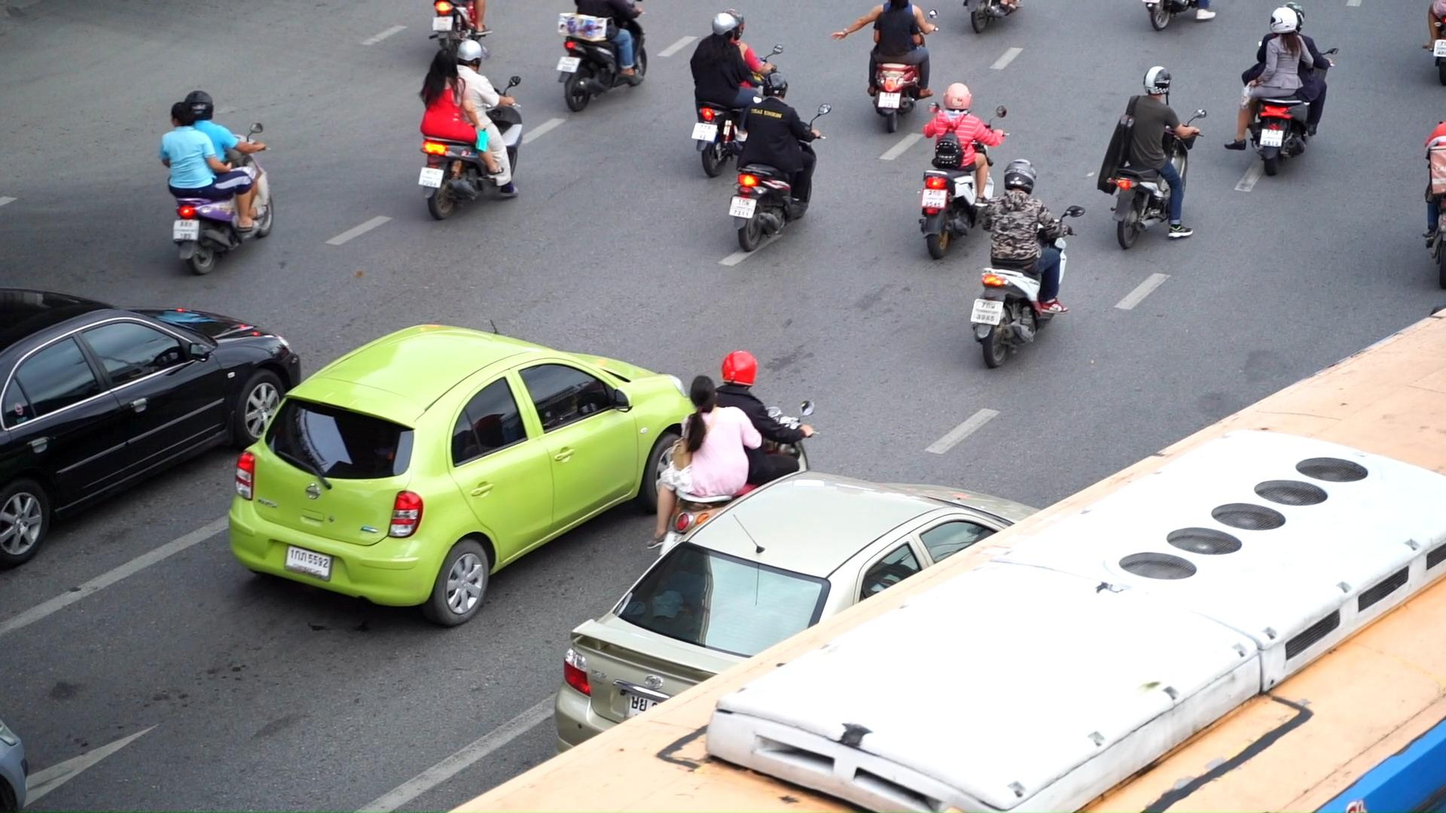driver: (645, 349, 820, 558), (969, 158, 1086, 368), (161, 89, 274, 276), (1097, 65, 1207, 250), (1224, 2, 1339, 177), (418, 39, 524, 221), (728, 72, 831, 252), (916, 82, 1010, 260), (690, 9, 783, 179), (830, 0, 939, 134), (556, 0, 647, 112)
helmet: (722, 349, 757, 389), (1004, 158, 1037, 194), (457, 39, 490, 73), (184, 90, 214, 120), (943, 82, 973, 112), (712, 12, 741, 42), (1143, 66, 1171, 96), (1270, 6, 1298, 35), (1280, 3, 1306, 32), (721, 9, 743, 40), (763, 73, 787, 101)
no-helmet: (690, 376, 715, 414), (430, 49, 458, 76), (171, 102, 196, 127)
